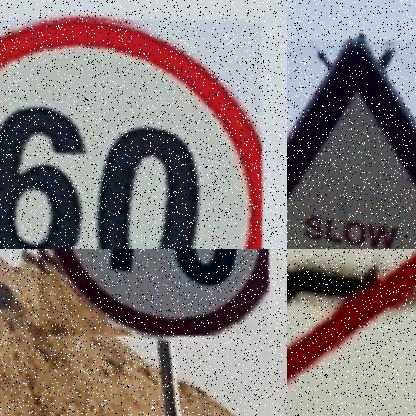No right turn: (287, 249, 416, 416)
Slow: (287, 42, 416, 249)
Speed Limit (70 kmph): (47, 249, 268, 335)
Speed Limit -60 kmph-: (0, 21, 262, 249)
